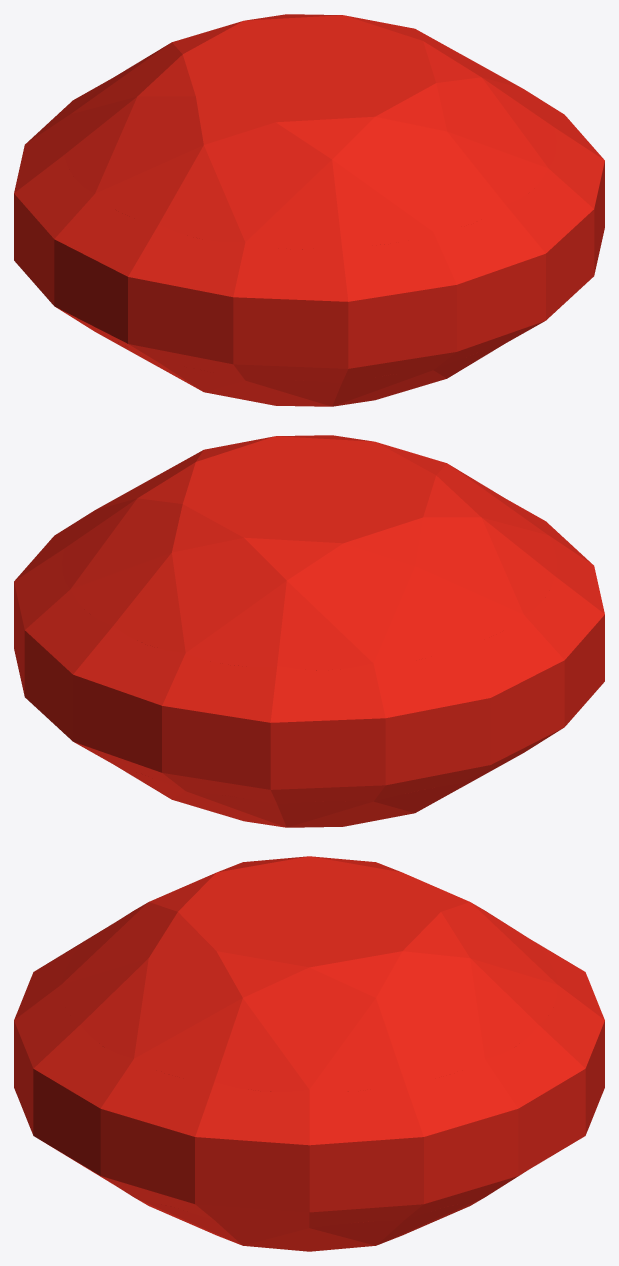
File: Ruby_pieces.fbx
3 views of the same model, one above another, from view 1: azimuth 30°, elevation 25°; view 2: azimuth 150°, elevation 25°; view 3: azimuth 270°, elevation 25° (orthographic).
Visible parts, largest first — view 1: Ruby_piece_top, Ruby_piece_bottom; view 2: Ruby_piece_top, Ruby_piece_bottom; view 3: Ruby_piece_top, Ruby_piece_bottom.
Part boxes in pixels (bbox=[...]): Ruby_piece_top: bbox=[14, 14, 604, 316]; Ruby_piece_bottom: bbox=[14, 176, 604, 406]; Ruby_piece_top: bbox=[14, 435, 604, 737]; Ruby_piece_bottom: bbox=[14, 597, 604, 827]; Ruby_piece_top: bbox=[14, 856, 604, 1160]; Ruby_piece_bottom: bbox=[14, 1036, 604, 1251].
Size of the model in its own units: 1071 by 569 by 1071.
